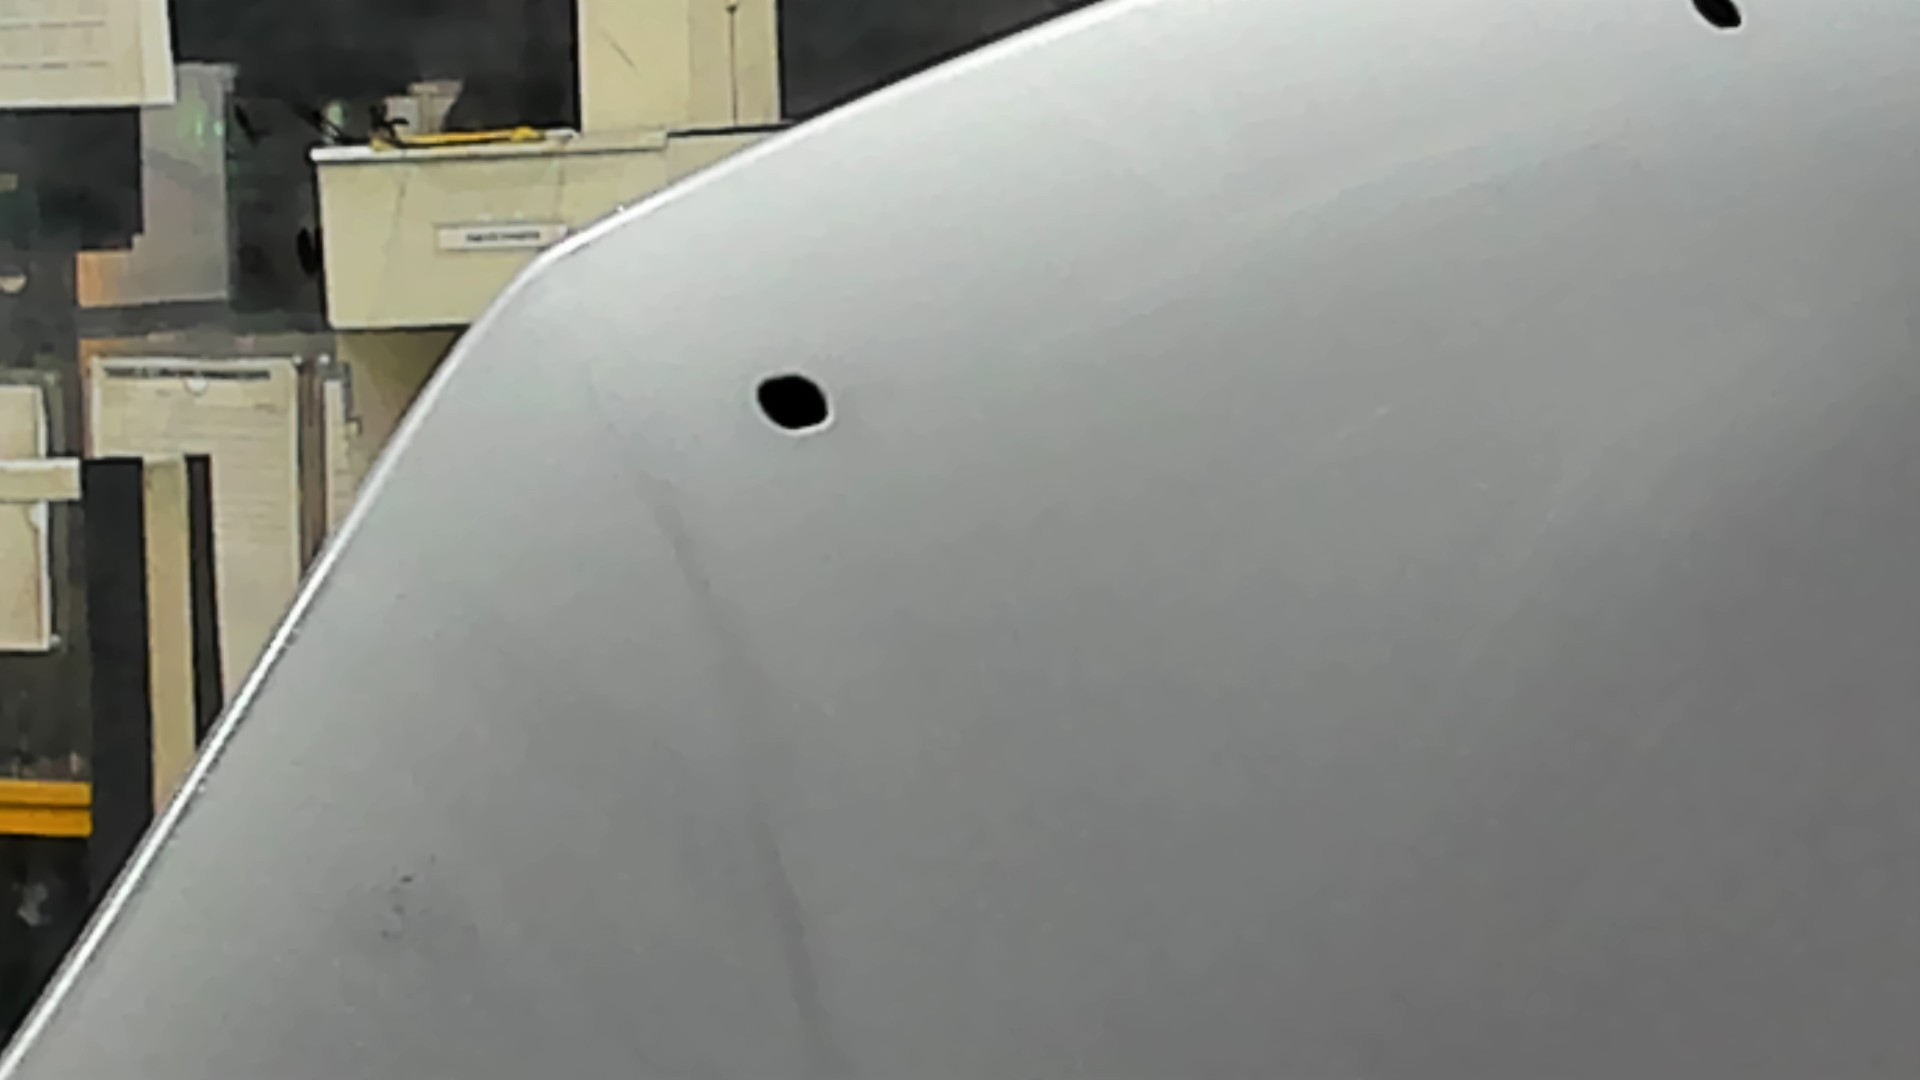Agujero: (752, 373, 831, 430), (1689, 1, 1745, 32)
